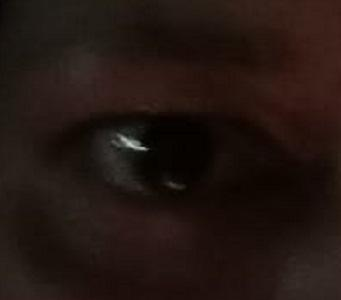open: (31, 89, 313, 244)
